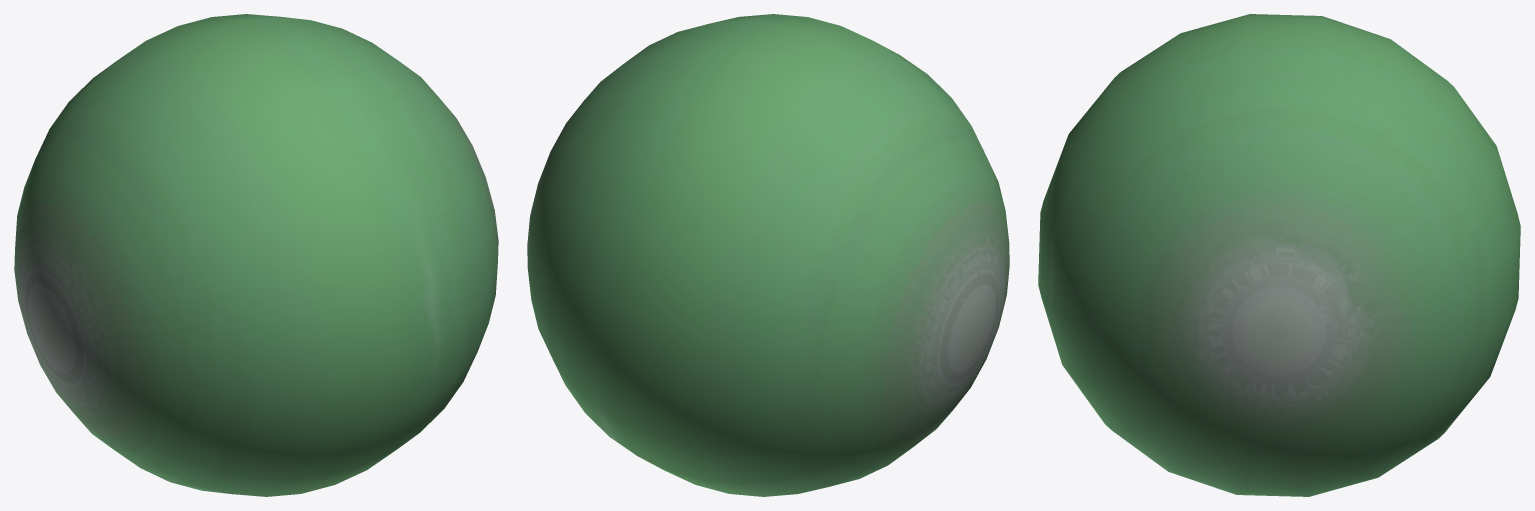
The model's file is Green Power Up.fbx.
The picture shows the model from 3 angles, left to right: view 1: azimuth 30°, elevation 25°; view 2: azimuth 150°, elevation 25°; view 3: azimuth 270°, elevation 25°; orthographic projection.
Parts seen in each view (by area): view 1: pSphere3; view 2: pSphere3; view 3: pSphere3.
Boxes of the visible parts, x1=… form: pSphere3: x1=14, y1=14, x2=498, y2=496; pSphere3: x1=527, y1=14, x2=1009, y2=496; pSphere3: x1=1038, y1=14, x2=1520, y2=496.
Bounding box in the file's own units: 2 × 1.98 × 1.98.
2 materials, 2 textured.
